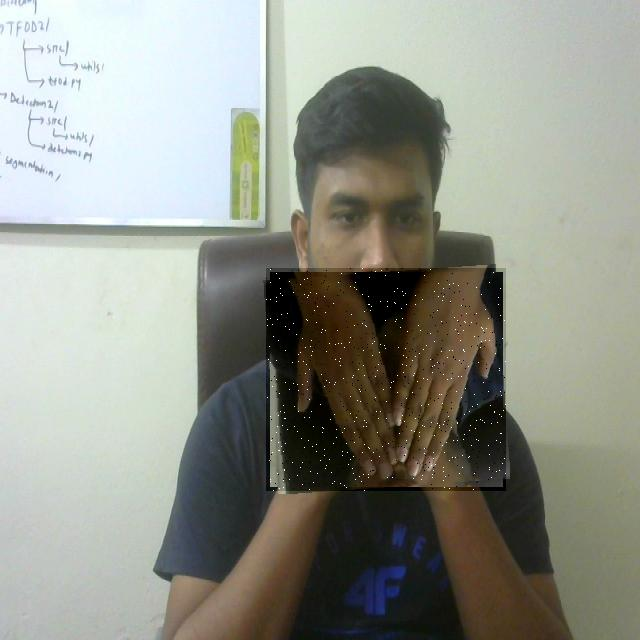Thanks: (266, 268, 506, 491)
